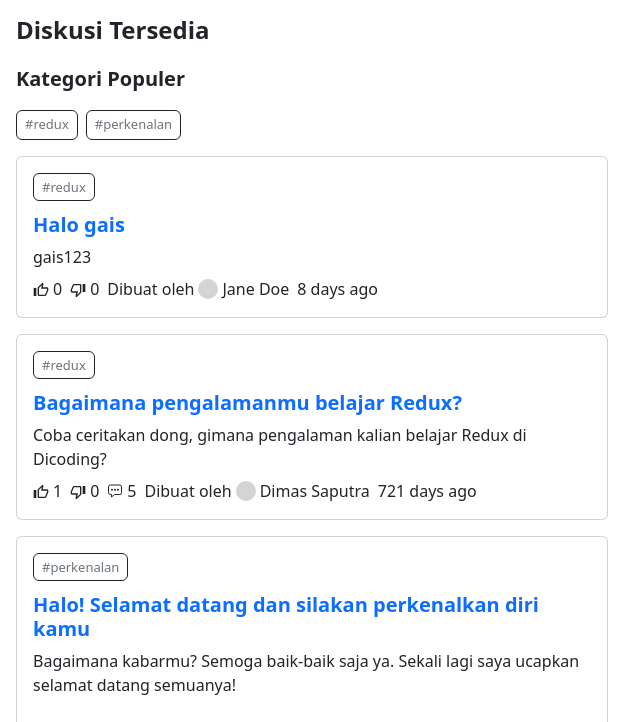
ThreadsList component › should filter threads when a category badge is clicked
The image size is (625, 722).
Click the text "#redux" below "Kategori Populer": click(47, 125) [16,110,78,140]
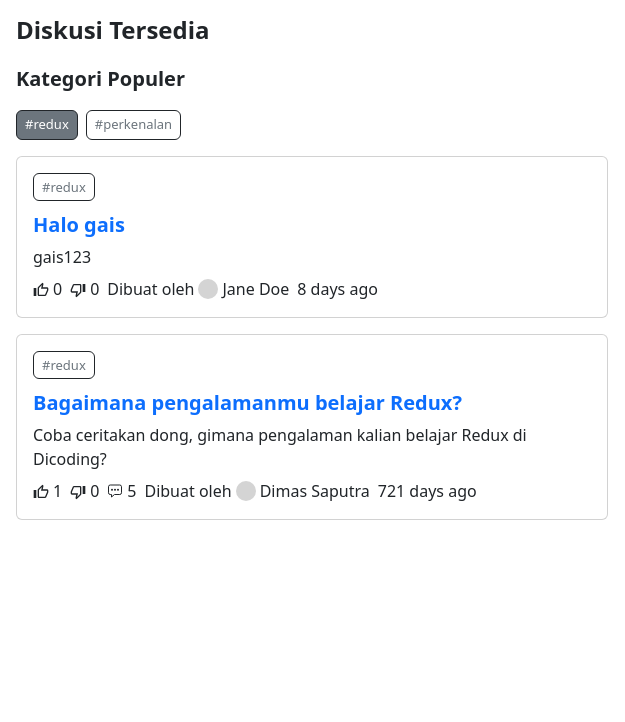
Expected: the button "Halo gais" is shown, [33,210,125,238]
Expected: the button "Halo! Selamat datang dan silakan perkenalkan diri kamu" is gone
